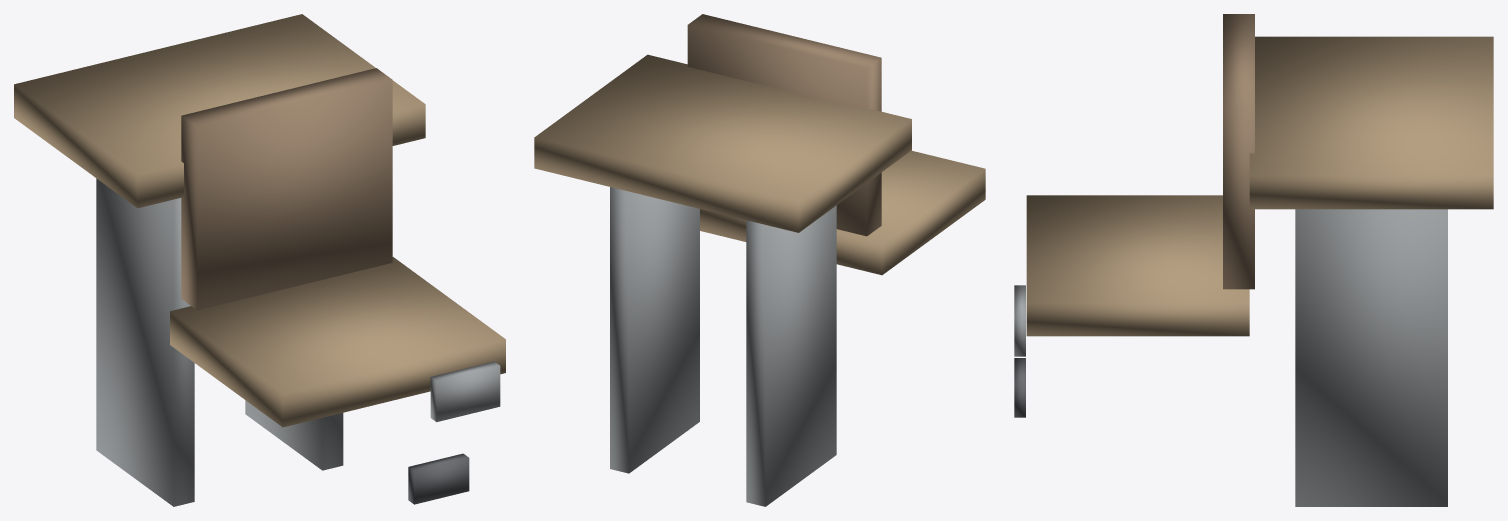
The model's file is classroom_desk__weathered.glb.
3 renders of one model, left to right at view 1: azimuth 30°, elevation 25°; view 2: azimuth 150°, elevation 25°; view 3: azimuth 270°, elevation 25°, orthographic. The views are drawn at different scales.
Parts seen in each view (by area): view 1: world; view 2: world; view 3: world.
Boxes of the visible parts, x1=… form: world: x1=14, y1=14, x2=505, y2=506; world: x1=534, y1=14, x2=985, y2=506; world: x1=1014, y1=14, x2=1493, y2=506.
Size of the model in its own units: 0.62 by 0.8415 by 0.9033.
